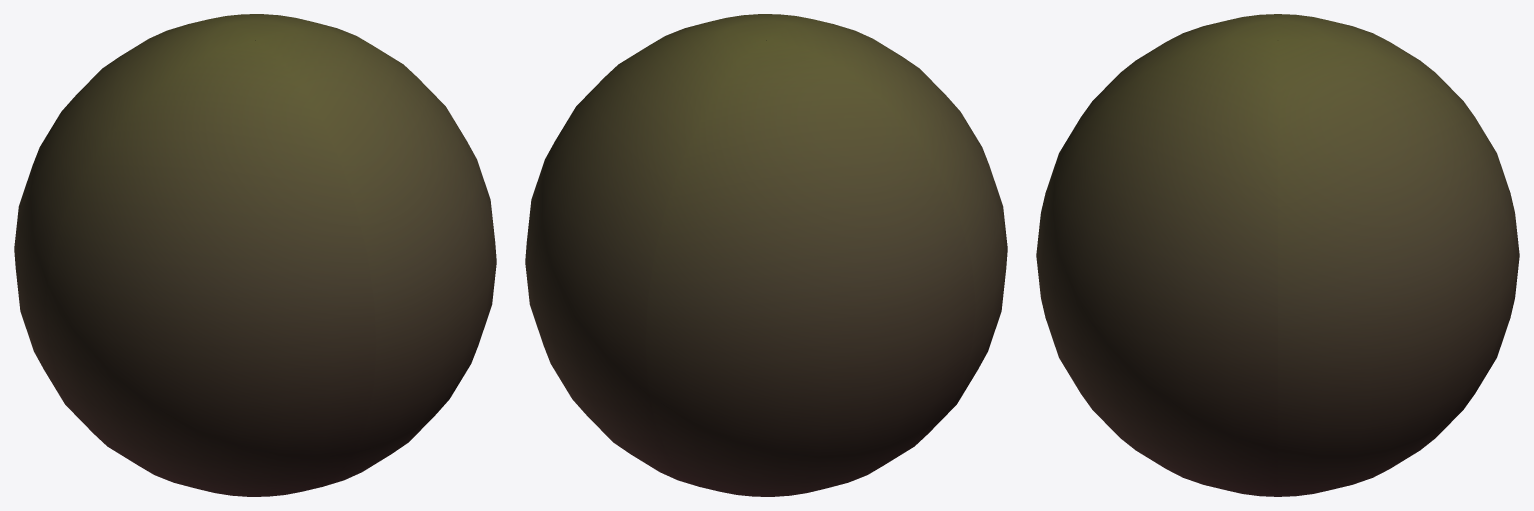
File: sphere_sky.fbx
3 views of the same model, side by side, from view 1: azimuth 30°, elevation 25°; view 2: azimuth 150°, elevation 25°; view 3: azimuth 270°, elevation 25° (orthographic).
Visible parts, largest first — view 1: sphere_sky; view 2: sphere_sky; view 3: sphere_sky.
Part boxes in pixels (<box>): sphere_sky: <box>14,14,496,496</box>; sphere_sky: <box>525,14,1007,496</box>; sphere_sky: <box>1036,14,1519,496</box>.
Size of the model in its own units: 67.94 by 66.63 by 67.94.
